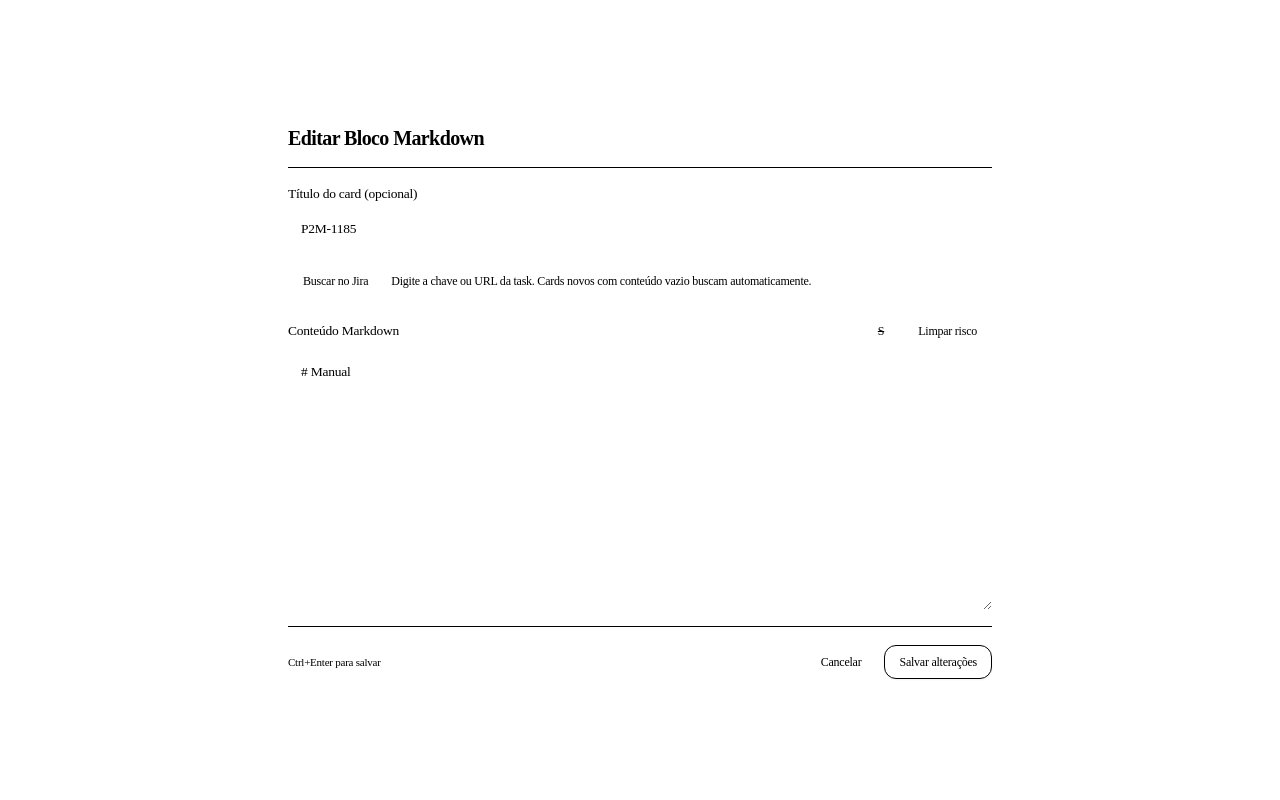
Test: importação de task no modal › preserva conteúdo e apresenta erro quando Jira falha
Click the button "Buscar no Jira": (336, 282) top-left (288, 264), bottom-right (383, 298)
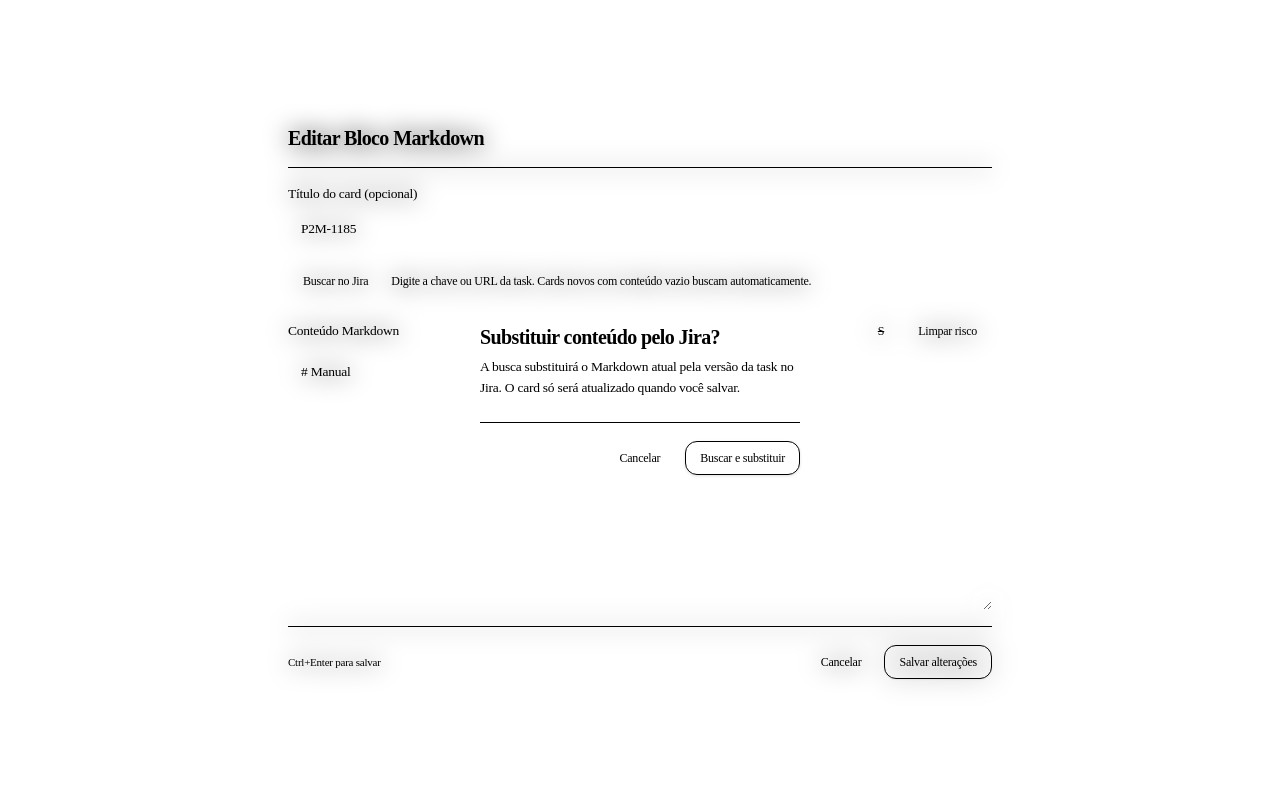
Click the button "Buscar e substituir": (743, 458) top-left (685, 441), bottom-right (800, 475)
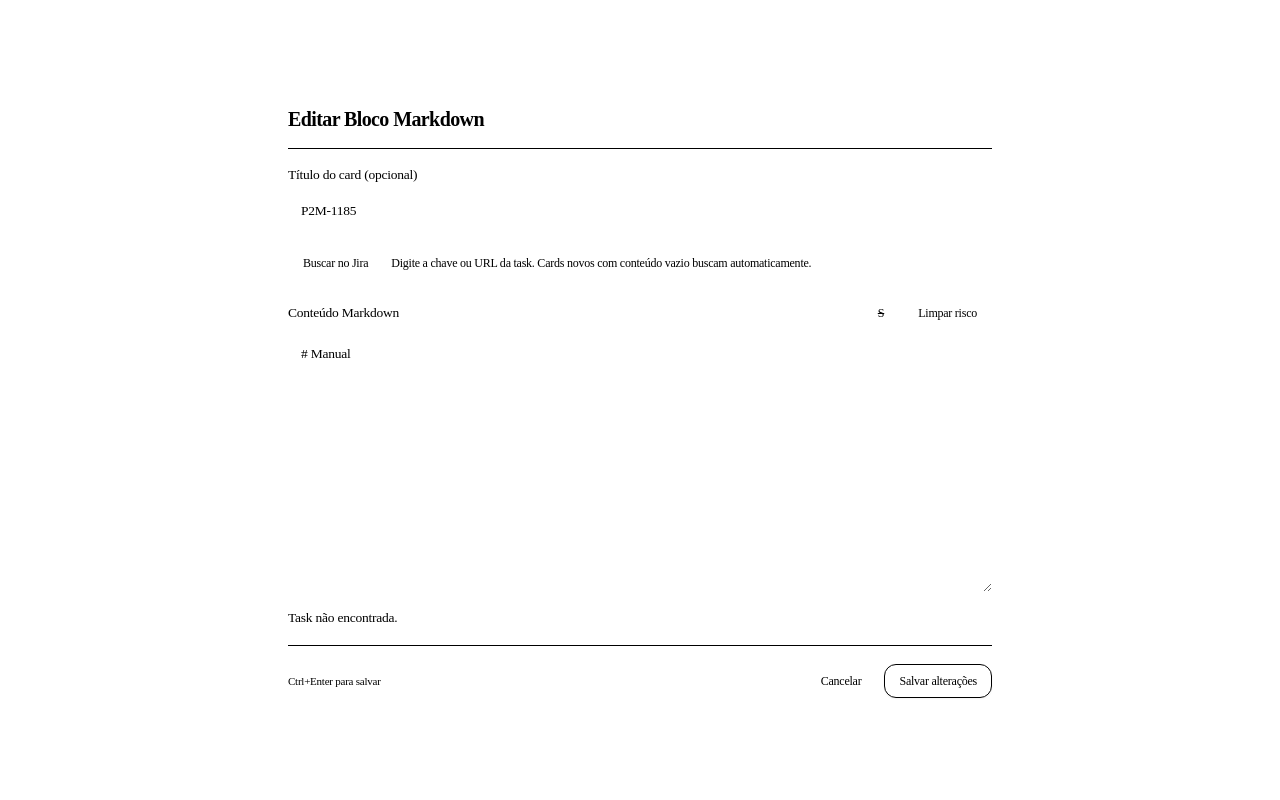
Expected: the text box labelled "Conteúdo Markdown" holds "# Manual", top-left (288, 336), bottom-right (992, 592)
Now the message "Task não encontrada." is shown, box top-left (288, 610), bottom-right (397, 625)
